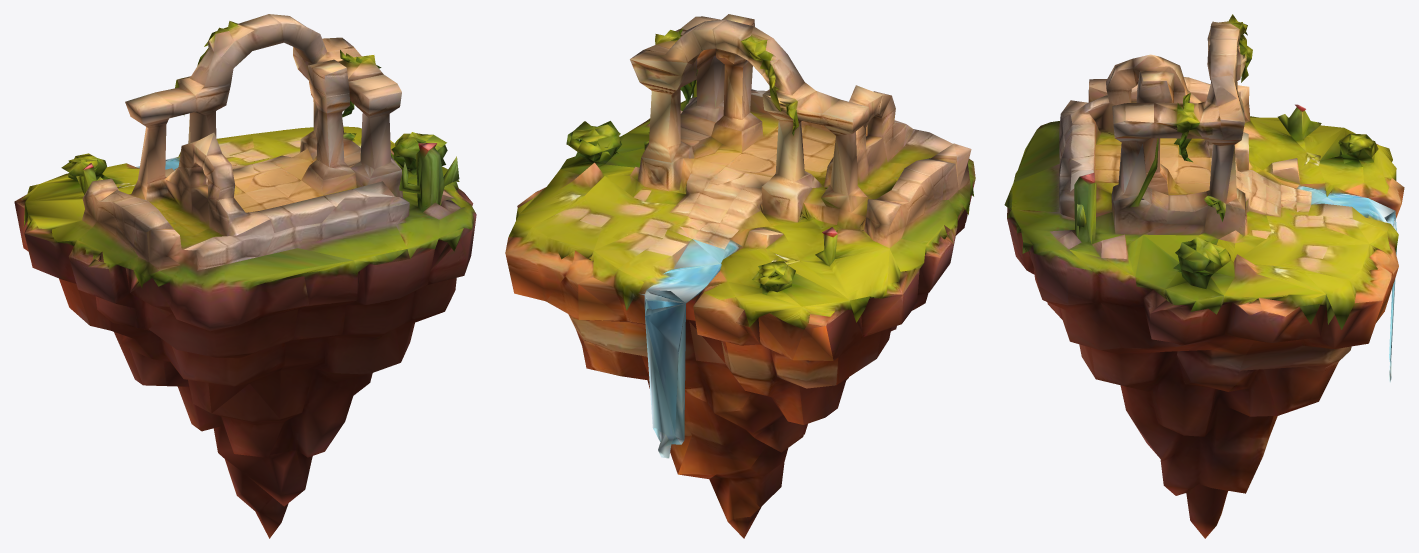
File: ilha.glb
3 views of the same model, side by side, from view 1: azimuth 30°, elevation 25°; view 2: azimuth 150°, elevation 25°; view 3: azimuth 270°, elevation 25° (orthographic). The views are drawn at different scales.
Visible parts, largest first — view 1: ilha; view 2: ilha; view 3: ilha.
Part boxes in pixels (bbox=[...]): ilha: bbox=[14, 14, 476, 538]; ilha: bbox=[505, 14, 975, 538]; ilha: bbox=[1004, 14, 1404, 538].
Size of the model in its own units: 0.7896 by 1 by 0.715.
1 material, 1 textured.
